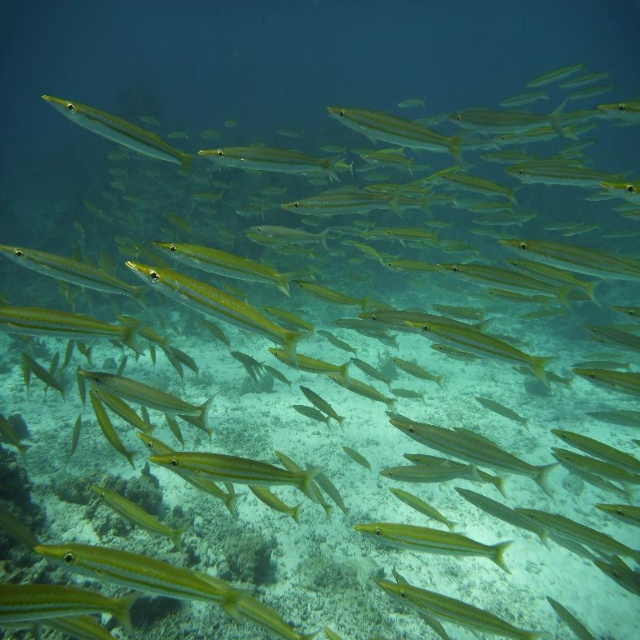Fish: (0, 59, 640, 640)
